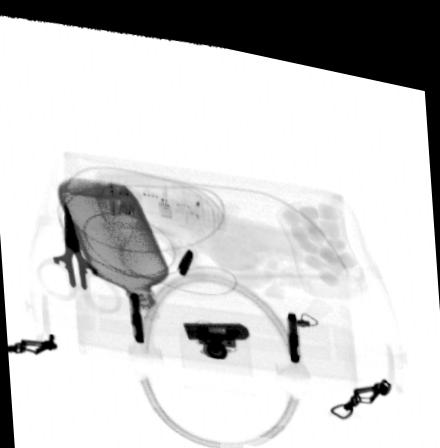Scissors: (34, 202, 120, 309)
